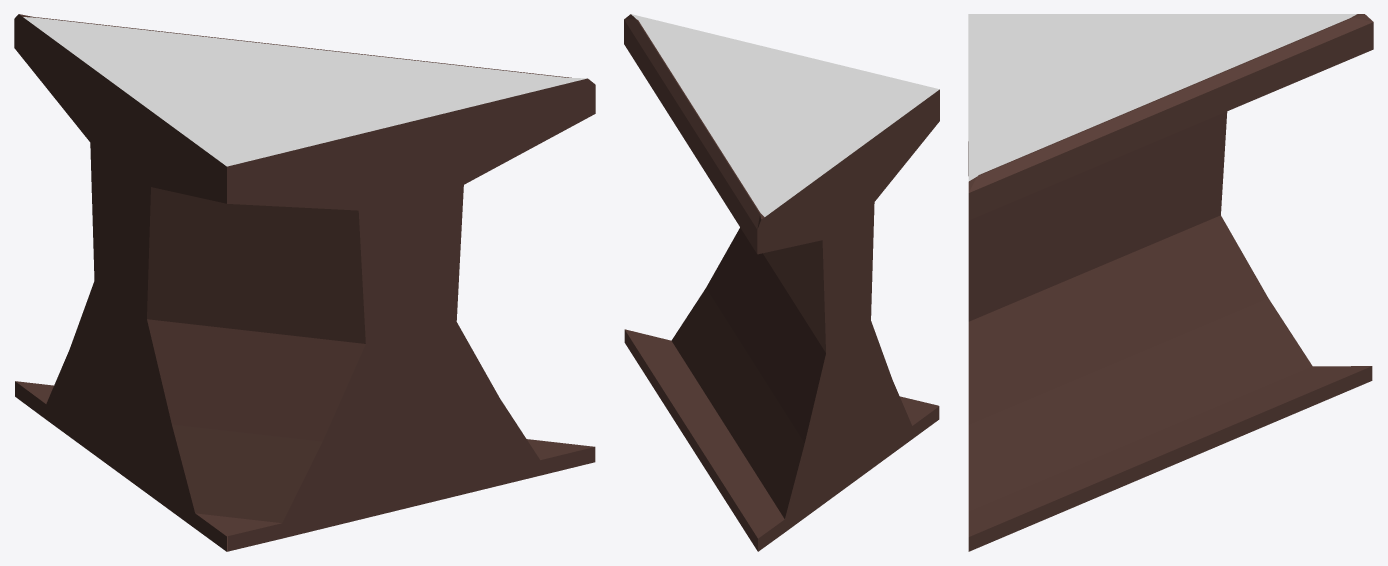
File: BenchCorner.fbx
3 renders of one model, left to right at view 1: azimuth 30°, elevation 25°; view 2: azimuth 150°, elevation 25°; view 3: azimuth 270°, elevation 25°, orthographic. The views are drawn at different scales.
Visible parts, largest first — view 1: Corner Bench; view 2: Corner Bench; view 3: Corner Bench.
Boxes of the visible parts, bbox=[...] form: Corner Bench: bbox=[14, 14, 595, 551]; Corner Bench: bbox=[624, 14, 939, 551]; Corner Bench: bbox=[968, 14, 1373, 551].
Size of the model in its own units: 200 by 200 by 200.
